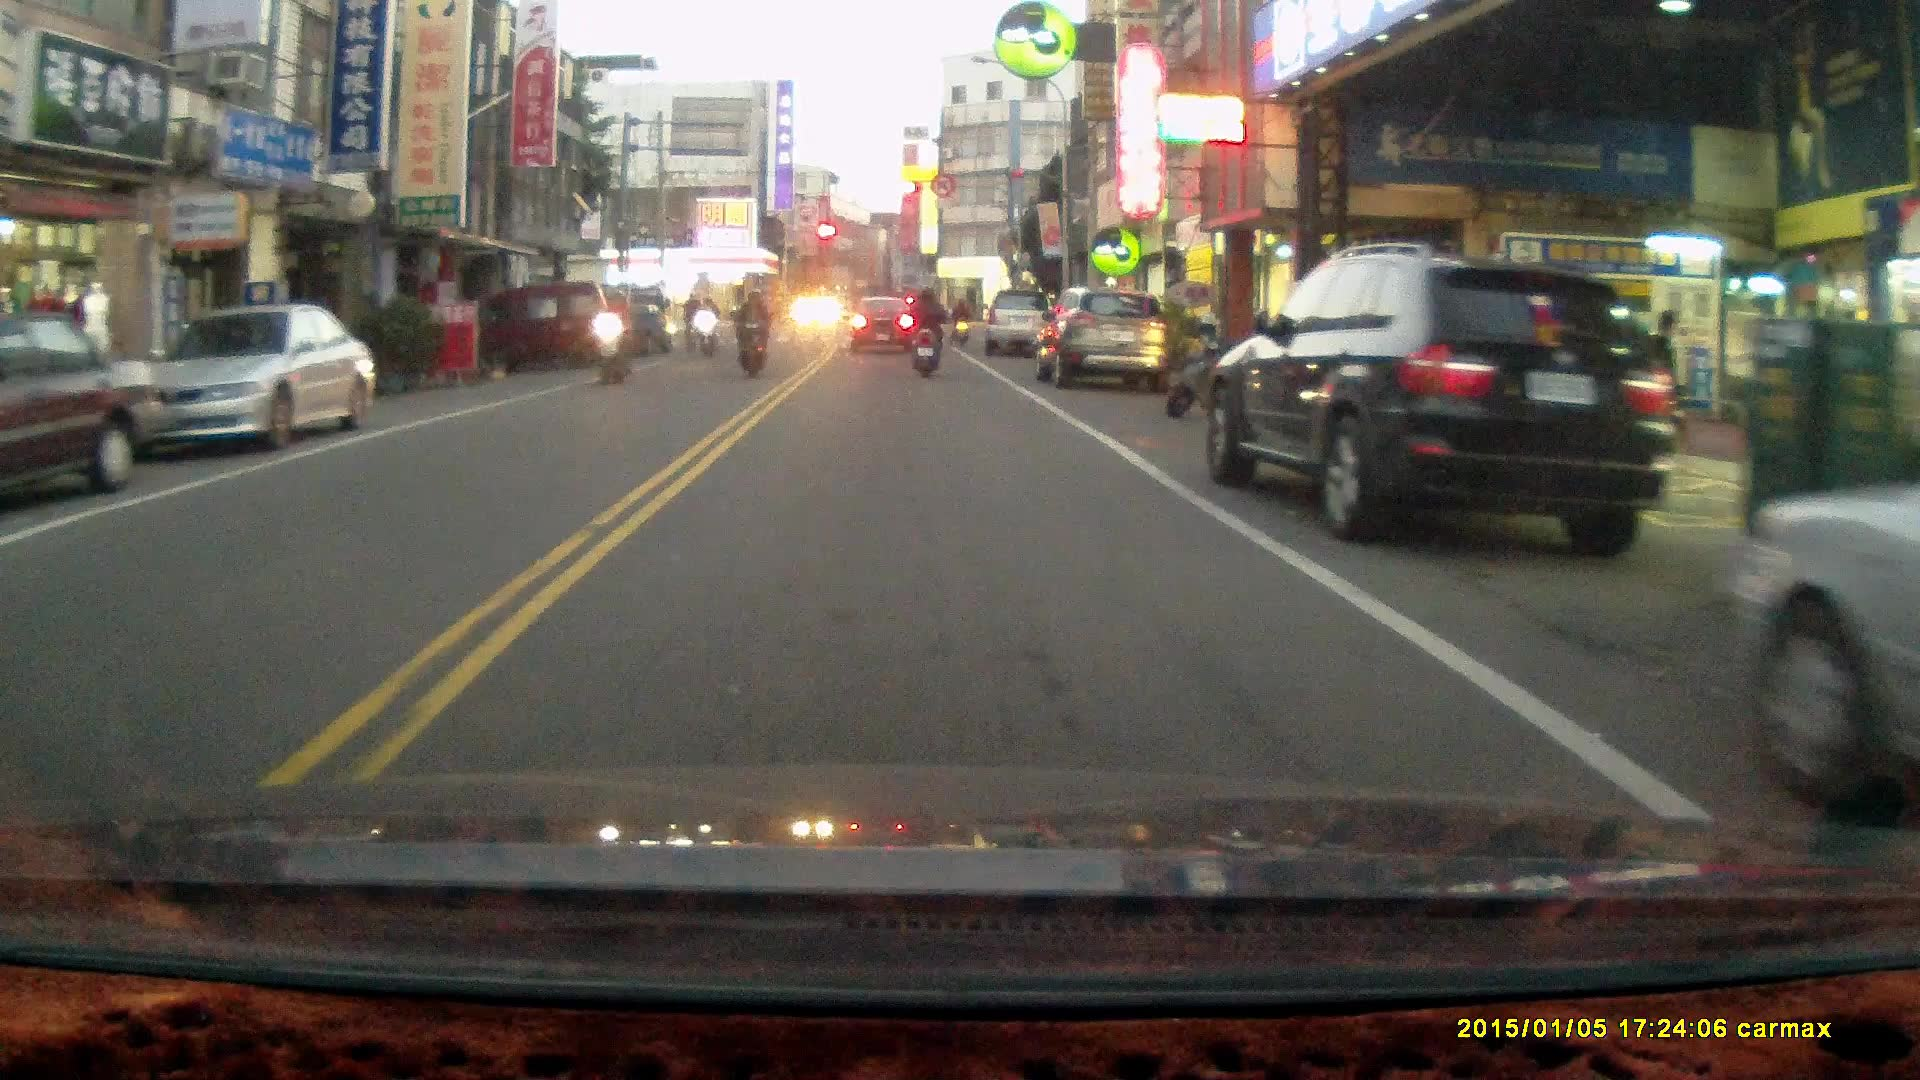pedestrian: (1637, 308, 1682, 482)
rider: (594, 279, 635, 381), (905, 284, 946, 378), (731, 285, 768, 379), (694, 293, 720, 359), (683, 290, 704, 356), (947, 294, 968, 344)
vehicle: (1203, 249, 1672, 561), (1729, 441, 1920, 832), (110, 301, 388, 453), (4, 309, 170, 511), (1034, 289, 1169, 391), (508, 281, 625, 368), (980, 290, 1065, 363)
